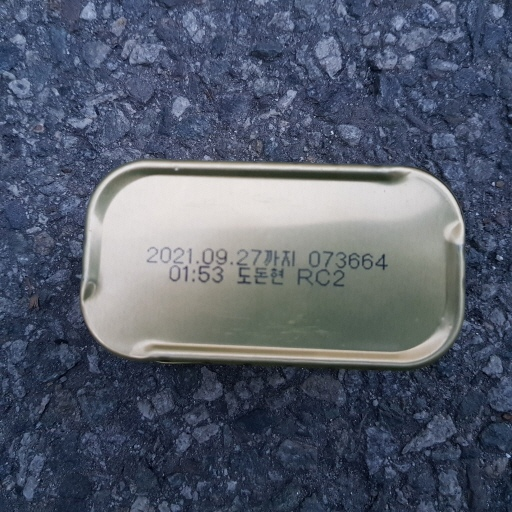Metal_2: (77, 158, 469, 372)
